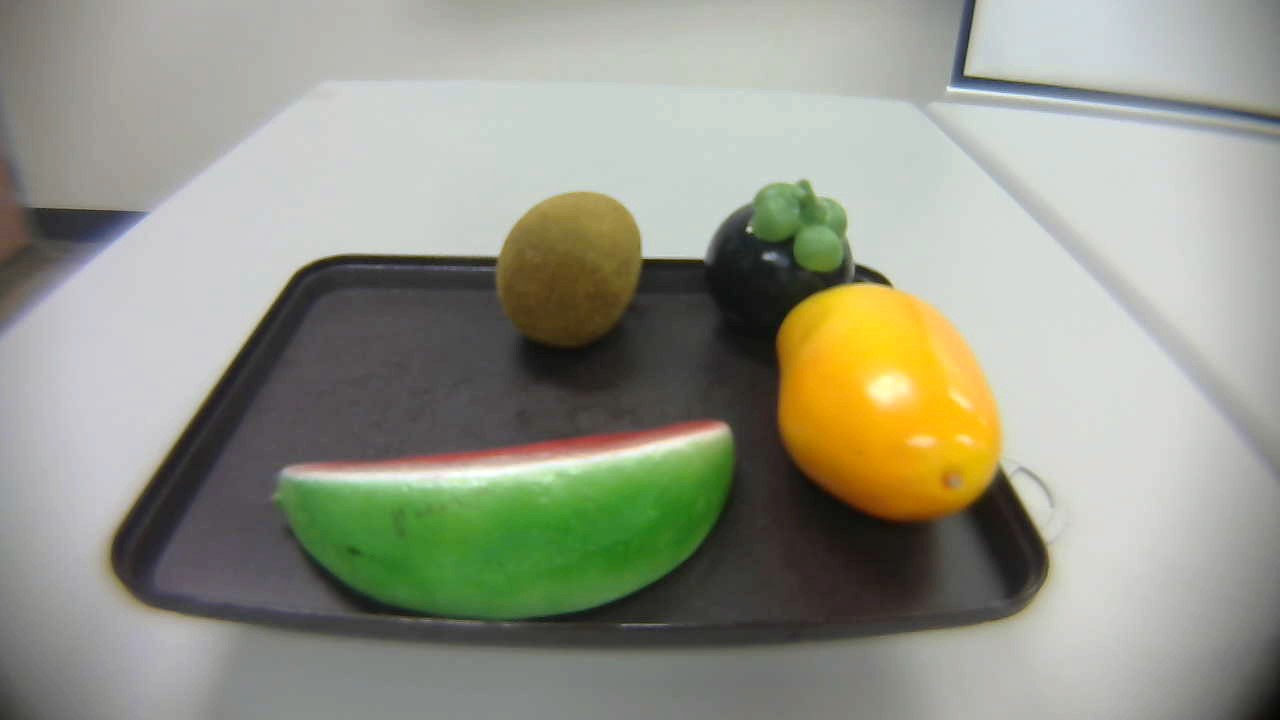kiwi fruit: (484, 191, 651, 345)
mangosteen: (704, 179, 876, 335)
water melon: (267, 414, 752, 641)
yellow mango: (760, 269, 1005, 514)
